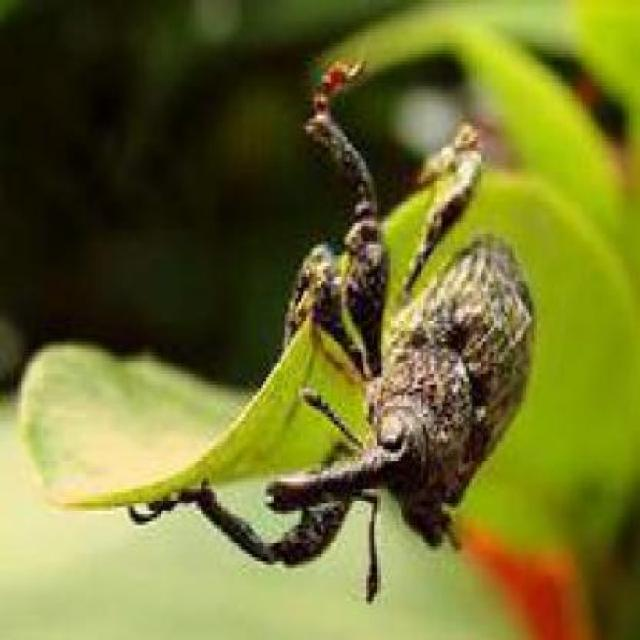rice-bug: (252, 203, 543, 574)
